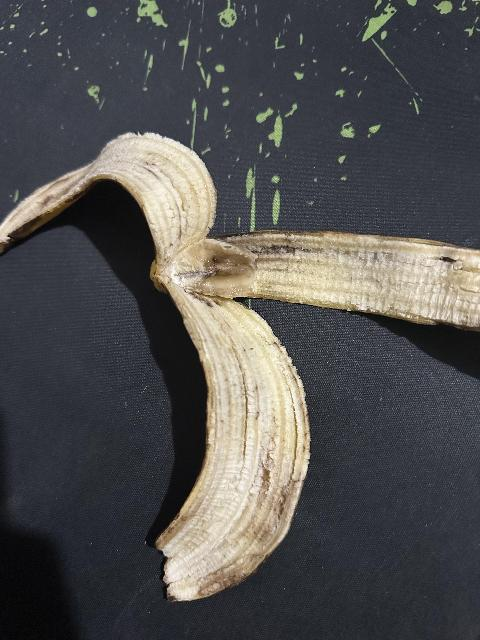Organik: (0, 127, 480, 605)
